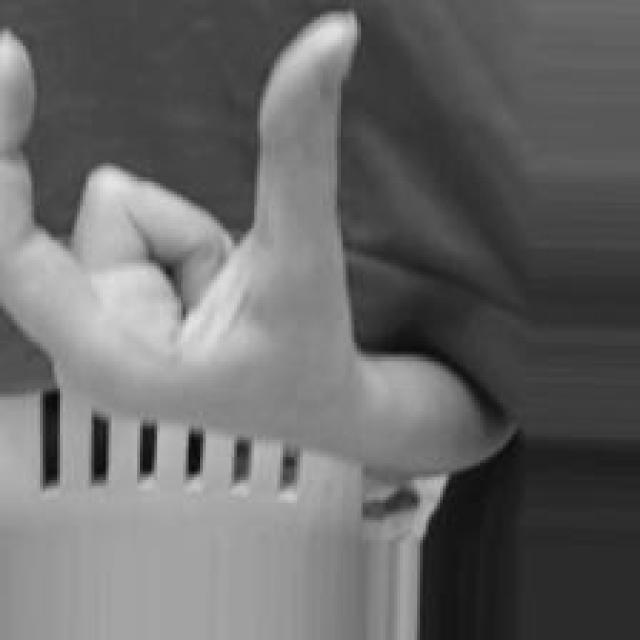U: (0, 6, 364, 468)
